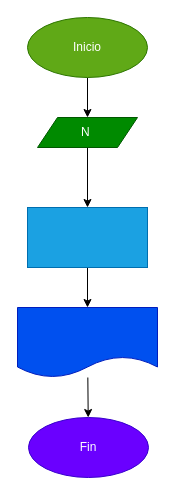
Image size: 175x495. Some labels were removed from this diagram. The shapes that lost their labels are listed below. From the top down, each one's box as (x1, y1, x2, y2) in pixels, then its label:
(26, 206, 148, 268): S = N ( N + 1 ) / 2
(16, 306, 158, 378): La suma de los primeros N números es = S
